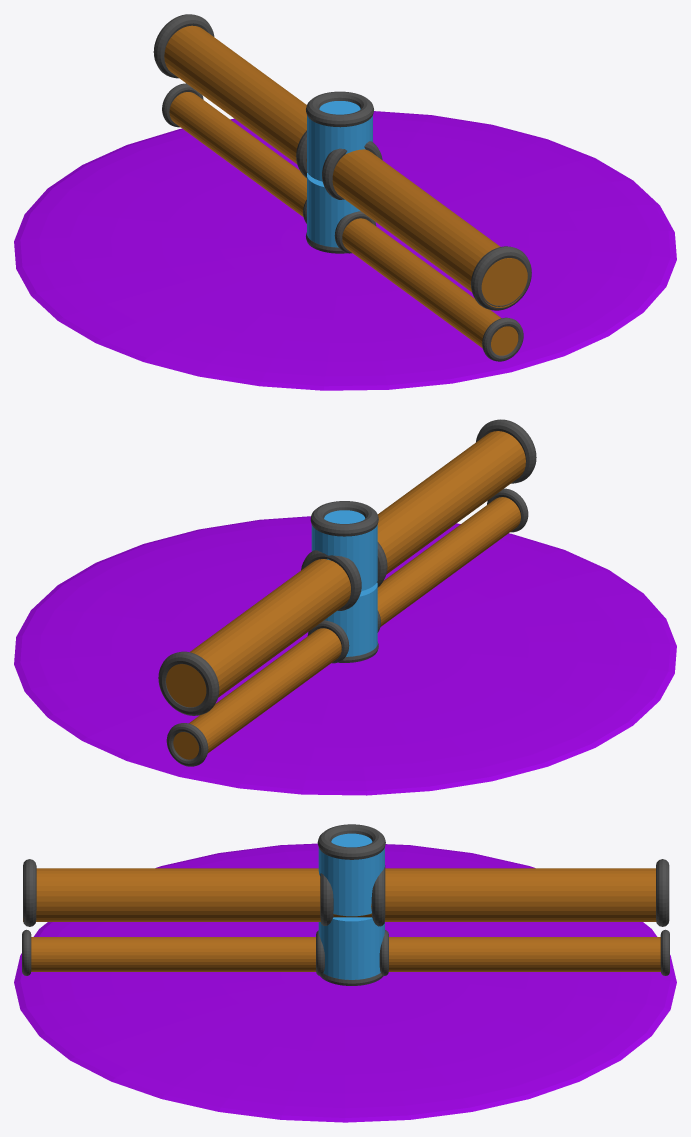
The model's file is obstacle.glb.
3 renders of one model, top to bottom at view 1: azimuth 30°, elevation 25°; view 2: azimuth 150°, elevation 25°; view 3: azimuth 270°, elevation 25°, orthographic.
Parts seen in each view (by area): view 1: Sphere, Cylinder.004, Cylinder.005, Cylinder.002, Cylinder, Torus.001, Torus.007, Torus.008, Torus.010, Torus.003; view 2: Sphere, Cylinder.004, Cylinder.005, Cylinder.002, Cylinder, Torus.008, Torus.001, Torus.007, Torus.004, Torus.006; view 3: Sphere, Cylinder.004, Cylinder.005, Cylinder, Cylinder.002, Torus.001, Torus.008, Torus.007, Torus.004, Torus.003.
Boxes of the visible parts, left/top/right/bottom form: Sphere: left=14, top=111, right=676, bottom=390; Cylinder.004: left=164, top=25, right=527, bottom=307; Cylinder.005: left=169, top=92, right=518, bottom=355; Cylinder.002: left=307, top=101, right=372, bottom=181; Cylinder: left=307, top=173, right=360, bottom=247; Torus.001: left=306, top=91, right=373, bottom=127; Torus.007: left=471, top=246, right=531, bottom=310; Torus.008: left=153, top=14, right=214, bottom=78; Torus.010: left=482, top=317, right=523, bottom=361; Torus.003: left=322, top=141, right=382, bottom=199; Sphere: left=14, top=516, right=676, bottom=795; Cylinder.004: left=166, top=431, right=525, bottom=707; Cylinder.005: left=173, top=497, right=520, bottom=759; Cylinder.002: left=311, top=510, right=377, bottom=591; Cylinder: left=324, top=582, right=377, bottom=656; Torus.008: left=158, top=651, right=219, bottom=715; Torus.001: left=310, top=501, right=378, bottom=536; Torus.007: left=476, top=419, right=536, bottom=483; Torus.004: left=301, top=550, right=361, bottom=610; Torus.006: left=166, top=723, right=208, bottom=766; Sphere: left=14, top=843, right=676, bottom=1122; Cylinder.004: left=23, top=868, right=656, bottom=921; Cylinder.005: left=31, top=937, right=660, bottom=971; Cylinder: left=318, top=917, right=384, bottom=979; Cylinder.002: left=318, top=833, right=384, bottom=916; Torus.001: left=317, top=824, right=385, bottom=859; Torus.008: left=656, top=859, right=669, bottom=926; Torus.007: left=23, top=859, right=36, bottom=926; Torus.004: left=371, top=865, right=385, bottom=926; Torus.003: left=320, top=873, right=333, bottom=925.
Bounding box in the file's own units: 2000 × 552 × 2000.
